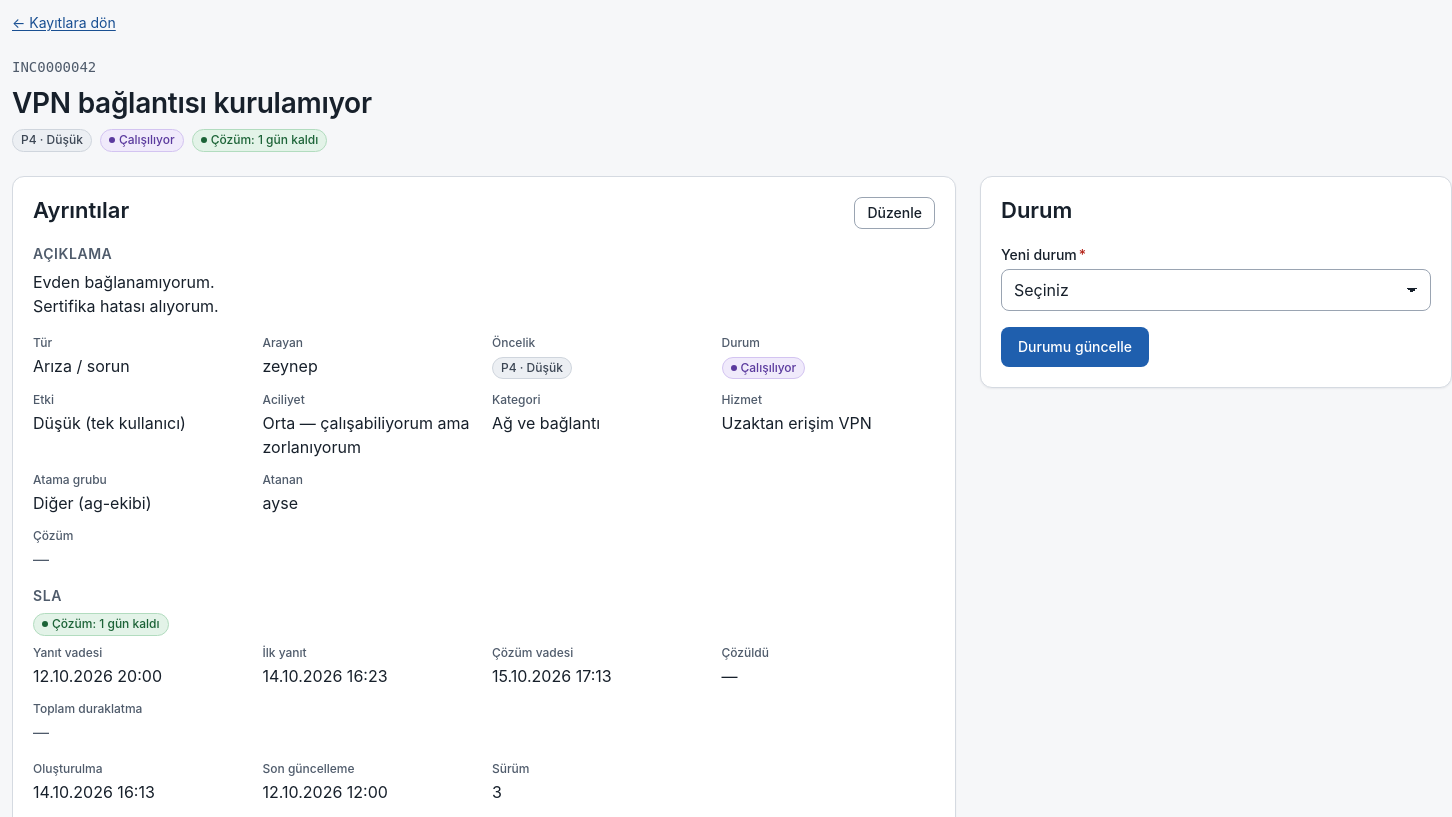
Test: IncidentDetailPage — durum geçişi › çözüldü durumu çözüm metni ister
This screenshot has width=1452, height=817.
Select "Çözüldü" in the dropdown labelled "Yeni durum*" at (1216, 290), box left=1001, top=269, right=1431, bottom=311
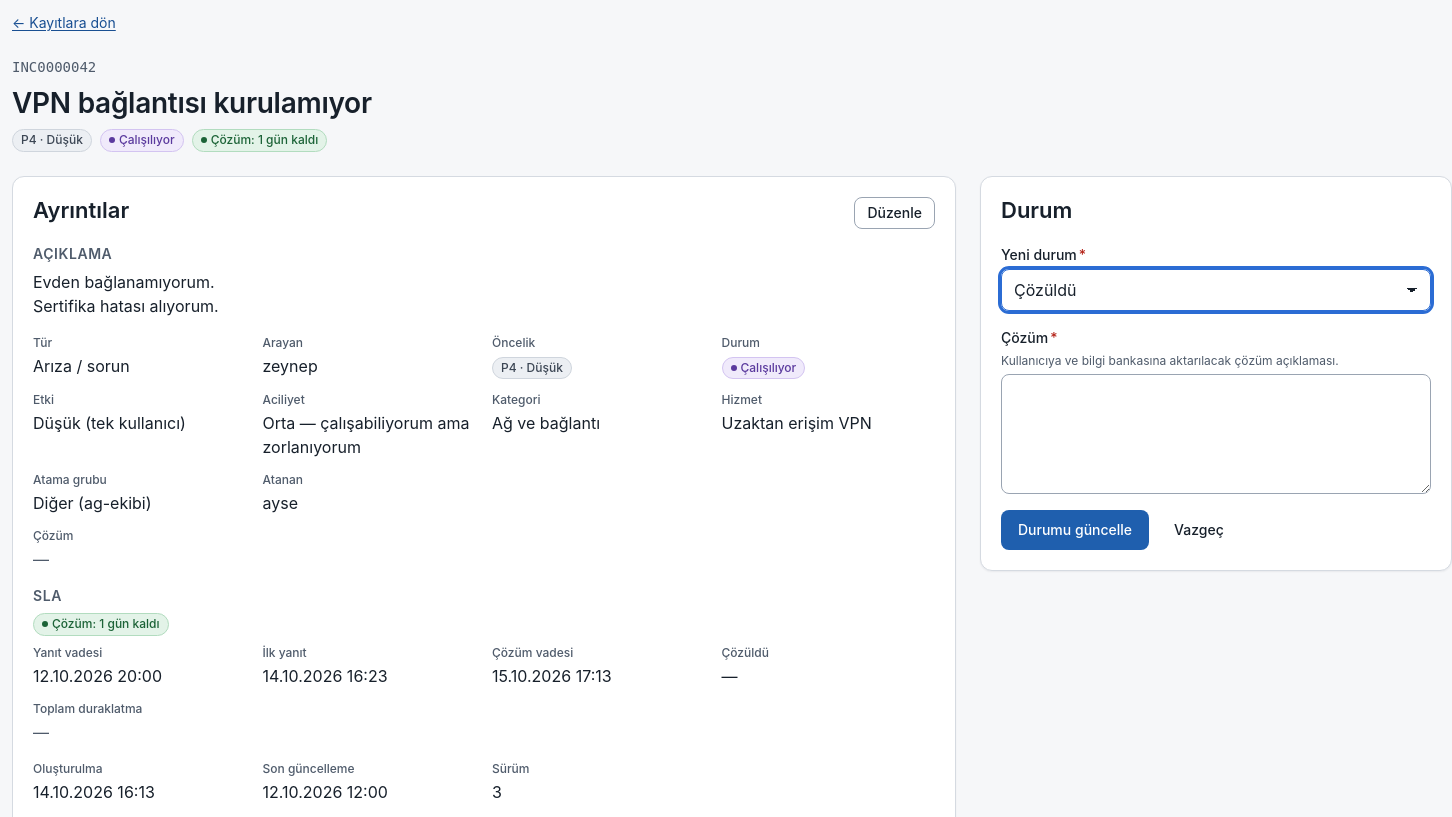
Click the button "Durumu güncelle" at (1075, 530), box left=1001, top=510, right=1149, bottom=550
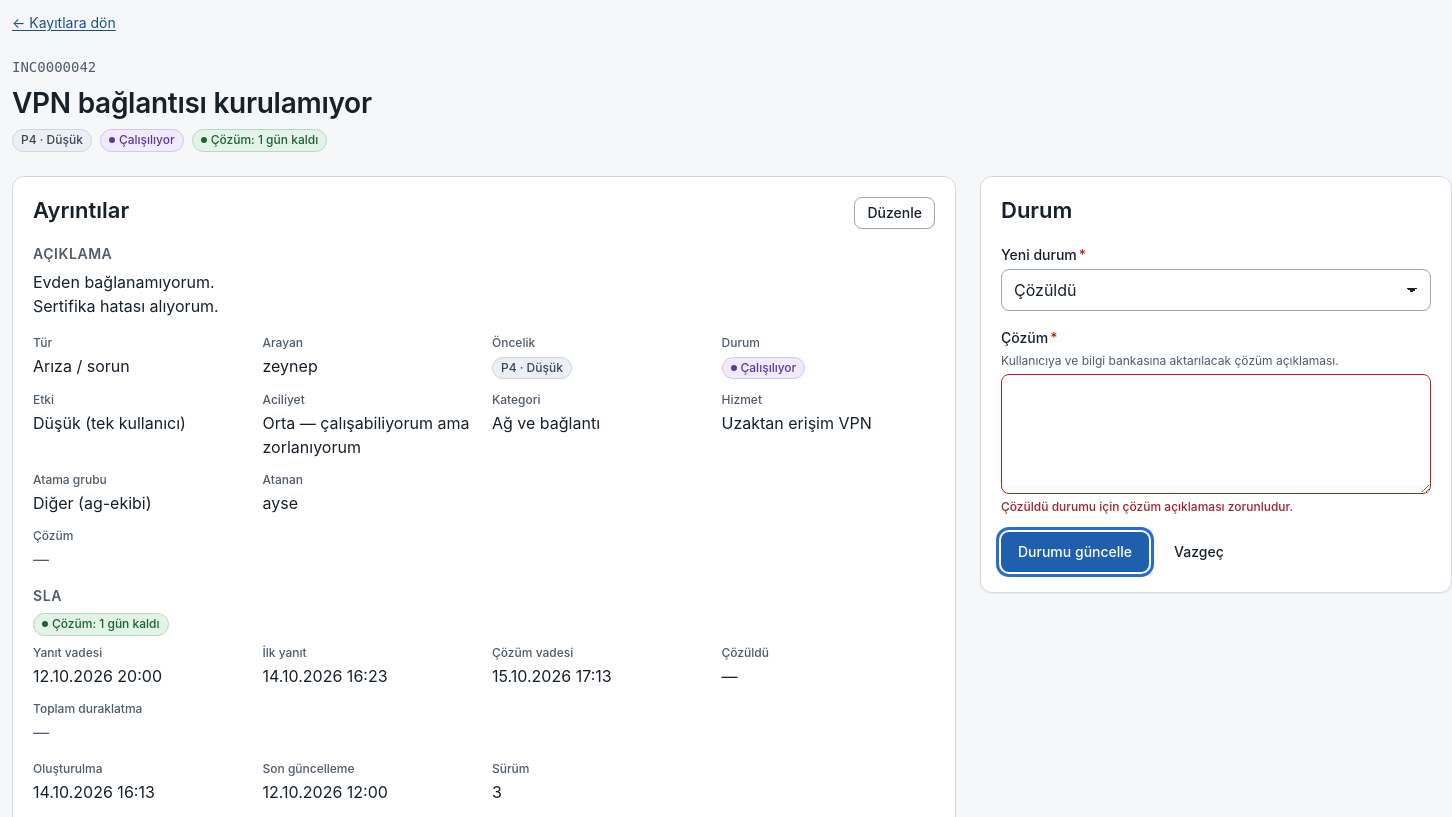
Result: the text "Çözüldü durumu için çözüm açıklaması zorunludur." is shown at left=1001, top=499, right=1293, bottom=514
Type "Sertifika yenilendi." into the text box labelled "Çözüm*" at (1216, 434), box left=1001, top=374, right=1431, bottom=494
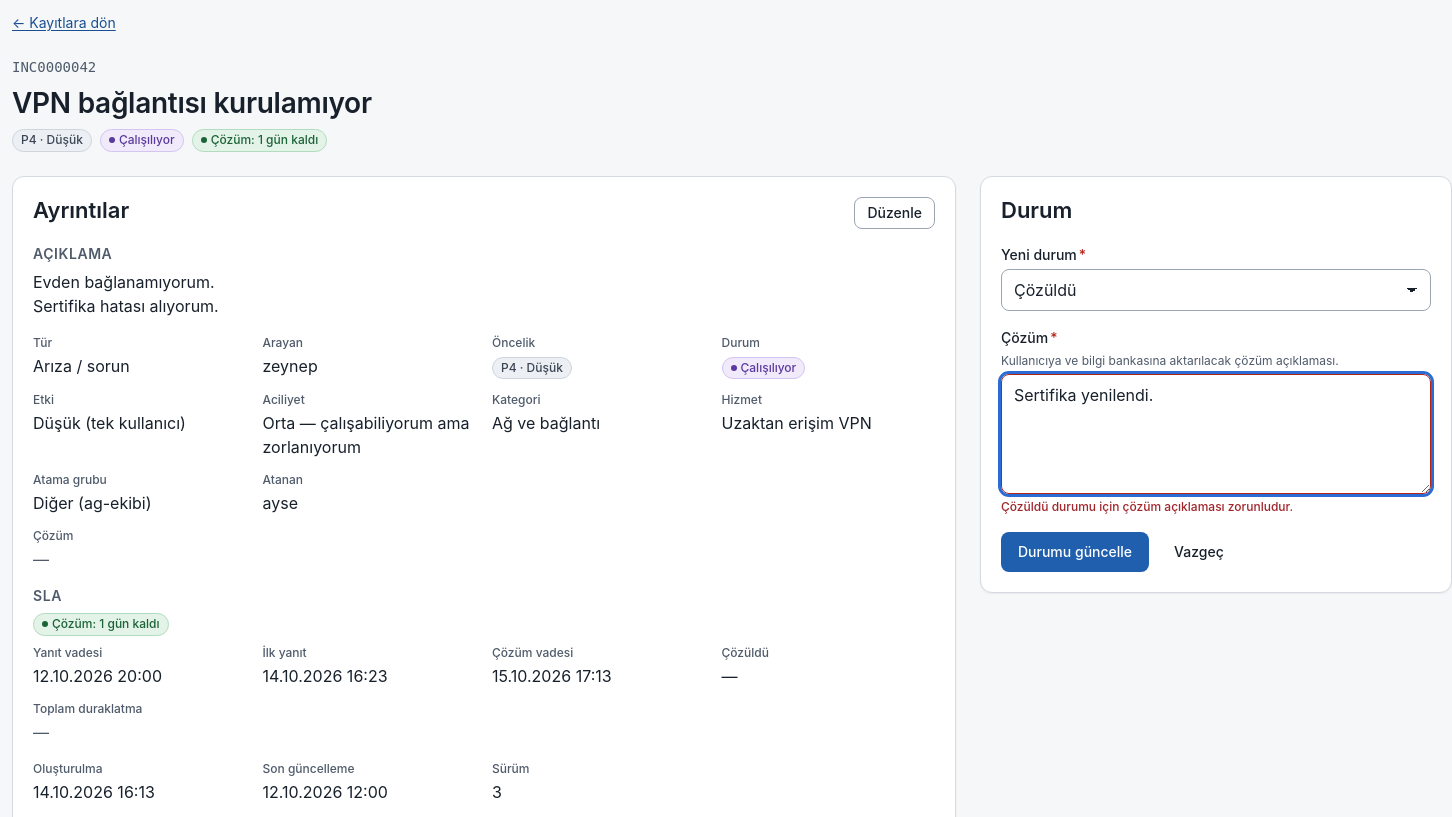
Click the button "Durumu güncelle" at (1075, 552), box left=1001, top=532, right=1149, bottom=572
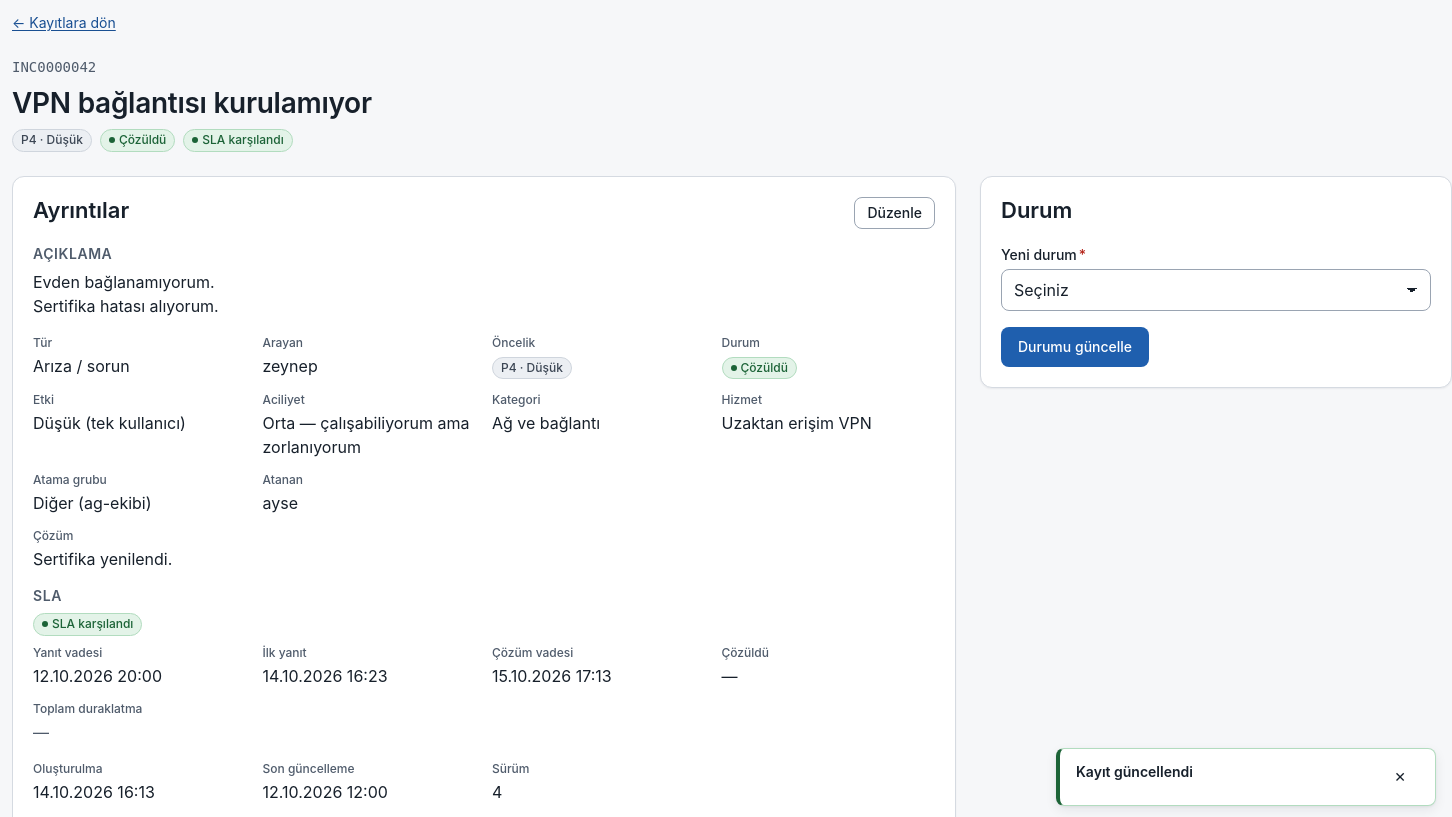
Result: the text "Kayıt güncellendi" is shown at left=1076, top=763, right=1193, bottom=780
